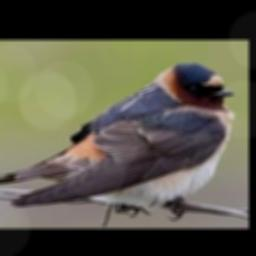Swallow: (0, 63, 236, 209)
